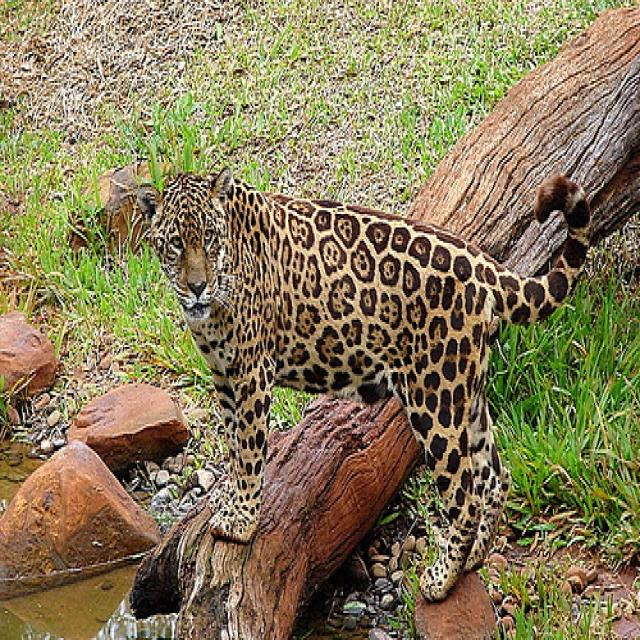Leopard: (133, 166, 590, 605)
